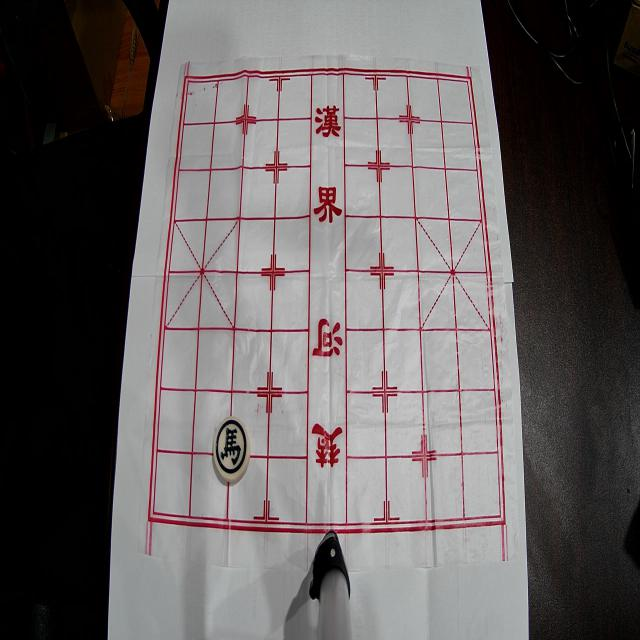black-horse: (213, 417, 250, 482)
